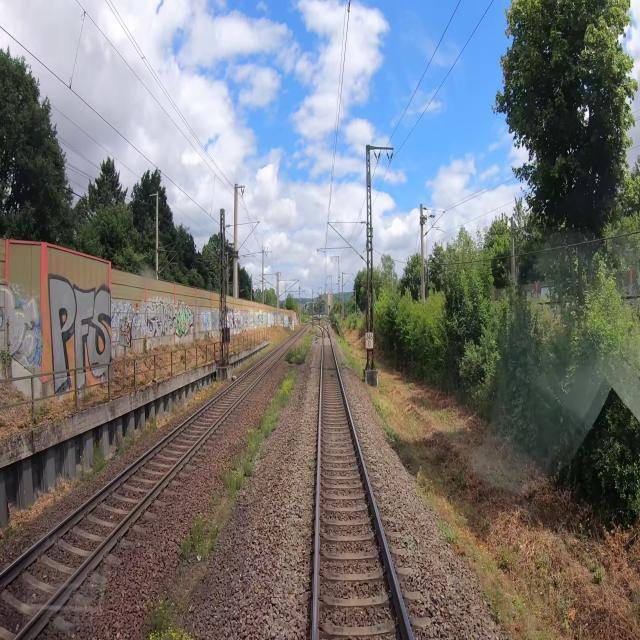Plant: (178, 365, 297, 612), (144, 594, 197, 639), (286, 327, 316, 364)
